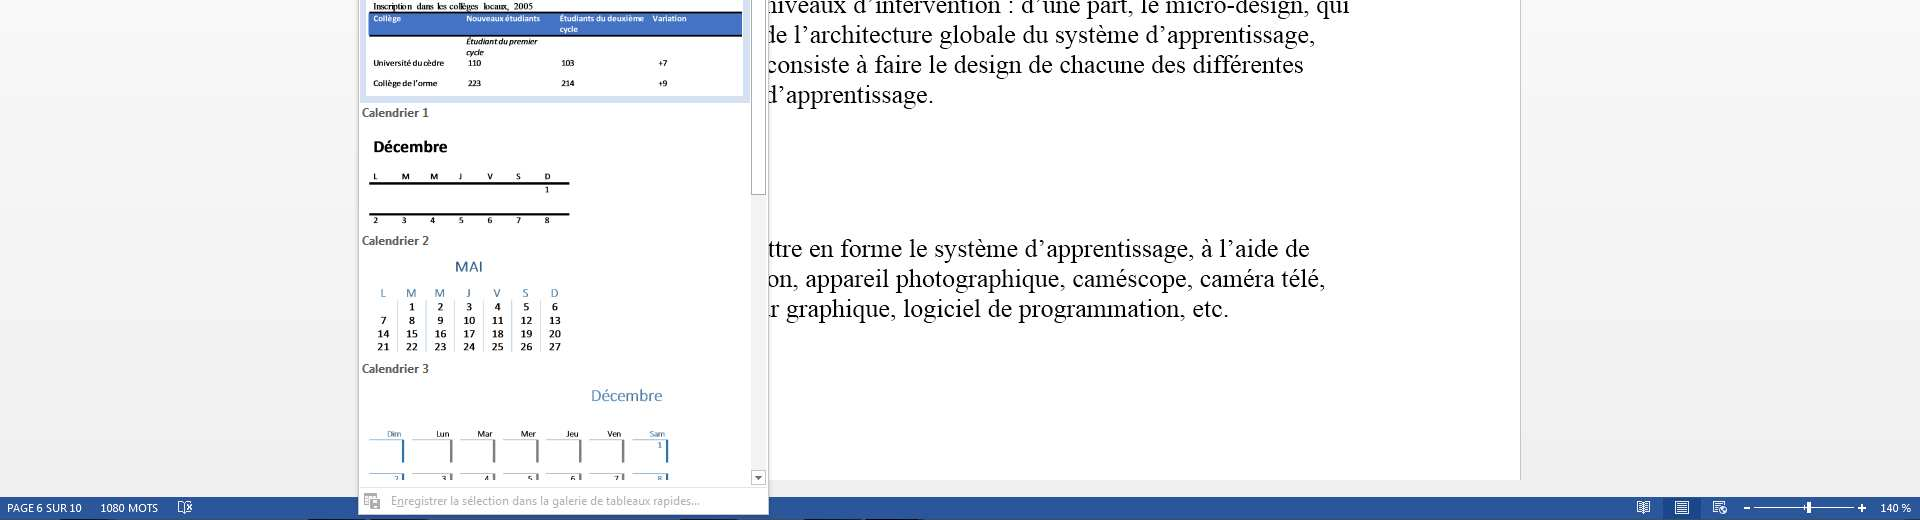texte: (898, 266, 1065, 305), (1073, 266, 1191, 305), (1146, 24, 1314, 49), (1025, 239, 1193, 263), (1018, 301, 1185, 323), (806, 266, 889, 305), (787, 87, 932, 109), (1166, 0, 1309, 20), (787, 299, 895, 323), (793, 24, 932, 43), (438, 303, 560, 324), (1193, 55, 1303, 73), (1056, 24, 1138, 49), (936, 239, 1018, 263), (1200, 266, 1262, 296), (904, 299, 981, 323), (358, 93, 419, 124), (940, 24, 1015, 49), (869, 0, 1000, 13), (955, 55, 1022, 80), (1060, 55, 1144, 73), (769, 55, 849, 73), (1276, 266, 1324, 296), (362, 230, 407, 259), (841, 239, 902, 257), (1220, 239, 1278, 257), (373, 139, 447, 153), (768, 1, 846, 13), (1086, 0, 1133, 20), (591, 389, 662, 401), (876, 55, 921, 73), (381, 303, 415, 324), (1152, 55, 1185, 73), (1318, 1, 1349, 20), (1037, 0, 1080, 13), (362, 365, 429, 373), (456, 258, 482, 279), (768, 241, 802, 257), (1193, 301, 1227, 317), (373, 59, 444, 66), (1022, 24, 1048, 43), (768, 275, 798, 290), (1029, 55, 1052, 73), (1286, 239, 1309, 257), (989, 299, 1011, 317), (768, 24, 787, 43), (909, 239, 927, 257), (378, 343, 418, 351), (492, 343, 531, 351), (407, 289, 444, 297), (424, 350, 433, 383), (929, 55, 947, 73), (493, 289, 528, 297), (378, 330, 418, 338), (811, 245, 834, 257), (1141, 0, 1160, 13), (857, 55, 868, 73), (1202, 239, 1213, 257), (768, 84, 778, 103), (853, 0, 864, 13), (768, 305, 778, 317), (549, 343, 561, 351), (1026, 0, 1033, 13), (464, 343, 475, 351), (549, 330, 561, 338), (1293, 269, 1316, 273), (435, 330, 446, 338), (464, 330, 475, 338), (492, 330, 503, 338), (520, 330, 531, 338), (562, 60, 574, 66), (751, 44, 752, 97), (659, 60, 667, 66), (422, 236, 429, 245), (751, 0, 752, 33), (425, 108, 429, 117), (1010, 1, 1011, 13), (1120, 269, 1124, 273), (1248, 269, 1251, 273), (877, 269, 880, 270), (1018, 269, 1020, 270)
